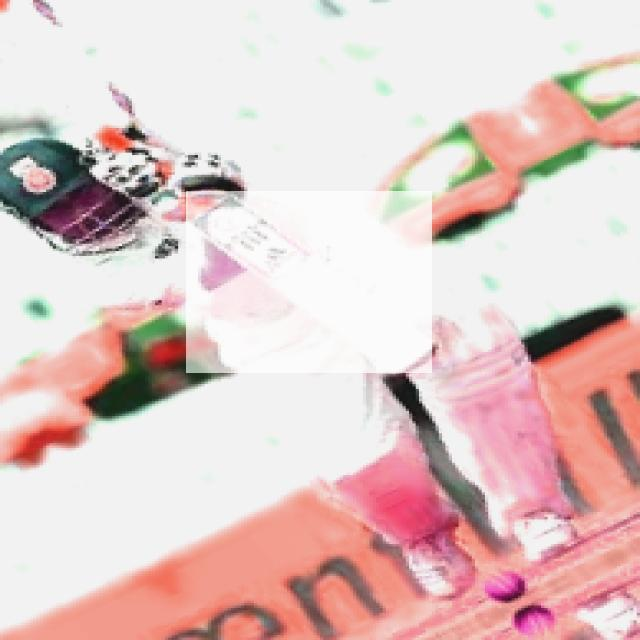bat: (185, 186, 432, 377)
toe: (392, 349, 446, 378)
